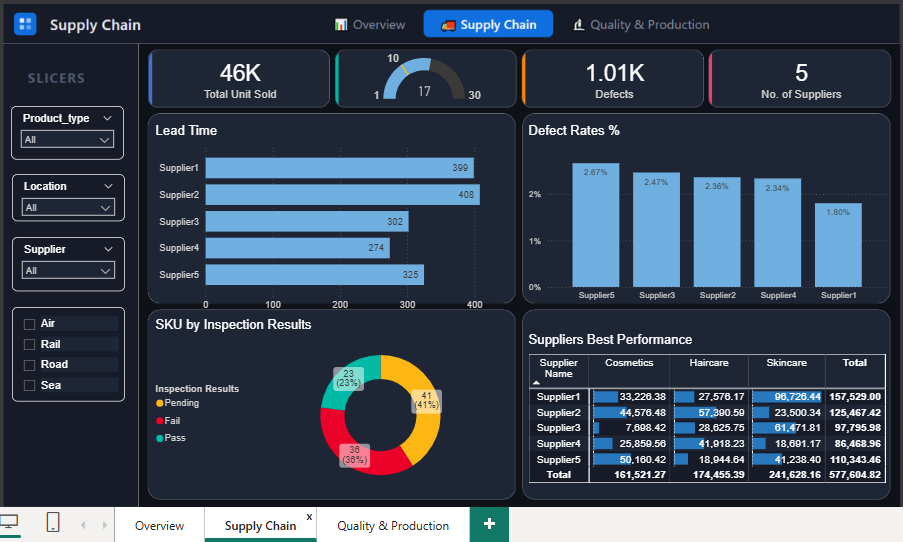

This screenshot's page, from the dashboard's own definition file:
{"tool":"powerbi","page":{"name":"Supply Chain","canvas":[1280,720],"ordinal":1},"visuals":[{"type":"image","box":[0,5,1280,715.6],"z":0},{"type":"card","fields":{"Values":["Sum(supply_chain_data_1.Defects_Count)"]},"box":[744.1,73.9,253.6,77.3],"z":1000},{"type":"card","fields":{"Values":["Count(supply_chain_data_1.Supplier_name)"]},"box":[1009.6,73.9,253.6,77.3],"z":2000},{"type":"clusteredBarChart","title":"Lead Time","fields":{"Category":["supply_chain_data_1.Supplier_name"],"Y":["Sum(supply_chain_data_1.Lead_time)"]},"box":[215,176.4,515.7,273.8],"z":3000},{"type":"clusteredColumnChart","title":"Defect Rates %","fields":{"Category":["supply_chain_data_1.Supplier_name"],"Y":["Avg(supply_chain_data_1.Defect_rates%)"]},"box":[744.1,176.4,519.1,260.4],"z":4000},{"type":"donutChart","title":"SKU by Inspection Results","fields":{"Category":["supply_chain_data_1.Inspection_results"],"Y":["CountNonNull(supply_chain_data_1.SKU)"]},"box":[215,450.2,515.7,257],"z":5000},{"type":"pivotTable","title":"Suppliers Best Performance","fields":{"Rows":["supply_chain_data_1.Supplier_name"],"Columns":["supply_chain_data_1.Product_type"],"Values":["Sum(supply_chain_data_1.Revenue_generated)"]},"box":[744.1,472,517.4,235.2],"z":6000},{"type":"gauge","title":"Ave. of Lead Time","fields":{"Y":["Avg(supply_chain_data_1.Lead_time)"],"MinValue":["Min(supply_chain_data_1.Lead_time)1"],"MaxValue":["Max(supply_chain_data_1.Lead_time)2"]},"box":[480.4,62.2,250.3,89],"z":7000},{"type":"slicer","fields":{"Values":["supply_chain_data_1.Product_type"]},"box":[15.1,151.2,159.6,75.6],"z":8000},{"type":"slicer","fields":{"Values":["supply_chain_data_1.Location"]},"box":[16.8,248.6,159.6,67.2],"z":9000},{"type":"slicer","fields":{"Values":["supply_chain_data_1.Supplier_name"]},"box":[16.8,337.6,159.6,77.3],"z":10000},{"type":"slicer","fields":{"Values":["supply_chain_data_1.Transportation_modes"]},"box":[16.8,436.7,159.6,134.4],"z":11000},{"type":"card","fields":{"Values":["Sum(supply_chain_data_1.Numberofproductssold)"]},"box":[215,70.6,250.3,82.3],"z":12000},{"type":"actionButton","box":[445.1,5,159.6,52.1],"z":12001},{"type":"actionButton","box":[782.8,5,235.2,52.1],"z":12002}]}

Visuals, with their boxes on the page's 1280x720 design canvas (x1, y1, x2, y2). These are canvas units, not pixel positions in the 903x542 screenshot, which may show the page scaled, cropped or inside an application window:
image: 0, 5, 1280, 721
card - Sum(supply_chain_data_1.Defects_Count): 744, 74, 998, 151
card - Count(supply_chain_data_1.Supplier_name): 1010, 74, 1263, 151
"Lead Time" clusteredBarChart: 215, 176, 731, 450
"Defect Rates %" clusteredColumnChart: 744, 176, 1263, 437
"SKU by Inspection Results" donutChart: 215, 450, 731, 707
"Suppliers Best Performance" pivotTable: 744, 472, 1262, 707
"Ave. of Lead Time" gauge: 480, 62, 731, 151
slicer - supply_chain_data_1.Product_type: 15, 151, 175, 227
slicer - supply_chain_data_1.Location: 17, 249, 176, 316
slicer - supply_chain_data_1.Supplier_name: 17, 338, 176, 415
slicer - supply_chain_data_1.Transportation_modes: 17, 437, 176, 571
card - Sum(supply_chain_data_1.Numberofproductssold): 215, 71, 465, 153
actionButton: 445, 5, 605, 57
actionButton: 783, 5, 1018, 57
